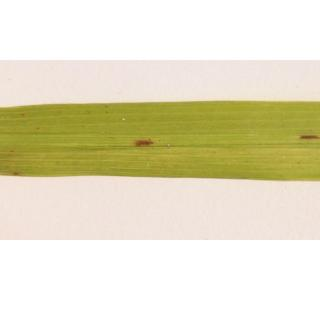bercak-Cokelat: (298, 122, 320, 148), (132, 134, 158, 152)
